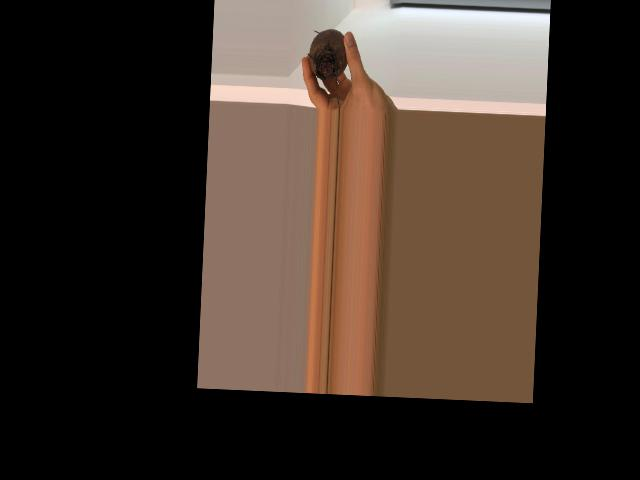beet: (305, 27, 349, 111)
